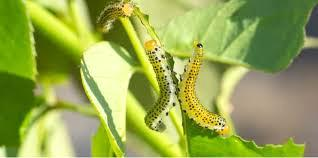Caterpillar: (176, 37, 234, 136), (138, 35, 174, 135), (92, 0, 133, 33)
